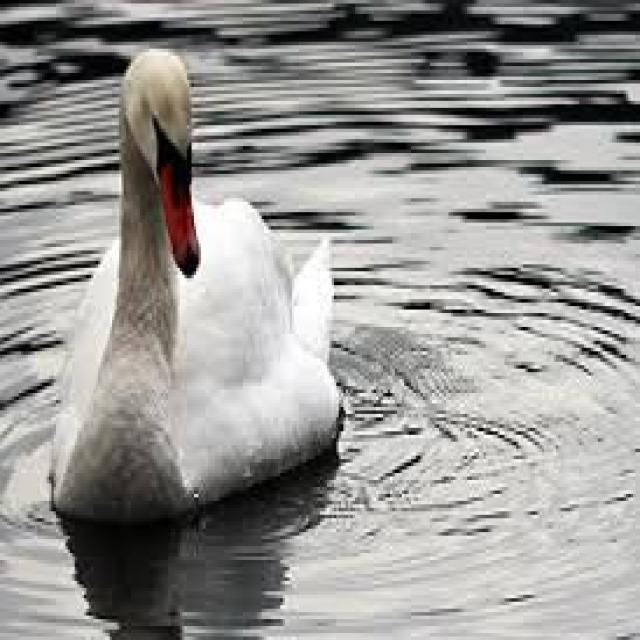swan: (51, 52, 339, 518)
